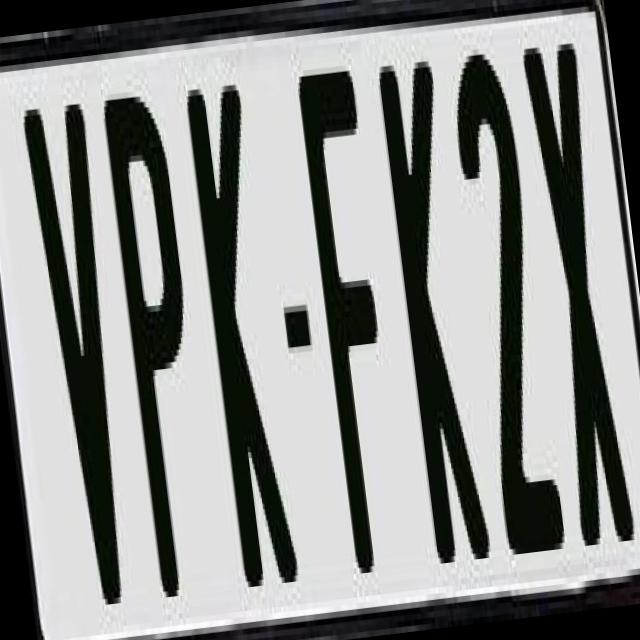2: (444, 40, 566, 555)
F: (292, 70, 415, 603)
K: (182, 84, 302, 616), (374, 54, 489, 582)
P: (98, 76, 224, 592)
V: (16, 98, 138, 608)
X: (517, 42, 639, 547)
